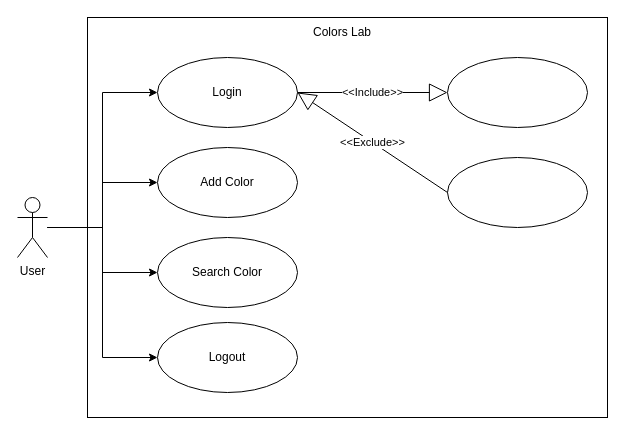
Image size: 625x435. Some labels were removed from this diagram. The shapes that lost their labels are listed below. From the top down, each one's centre as x and y in pixels, then its label:
point (517, 92): Verify Password
point (517, 192): Login Error
